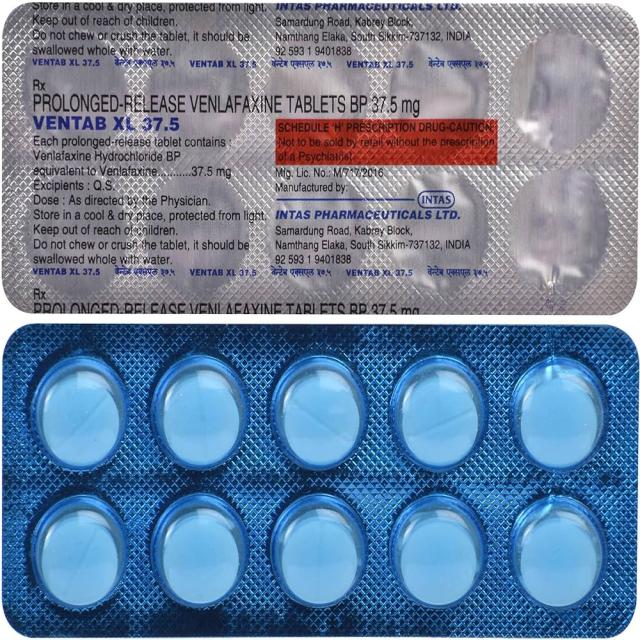Medicine-name: (32, 88, 428, 118)
